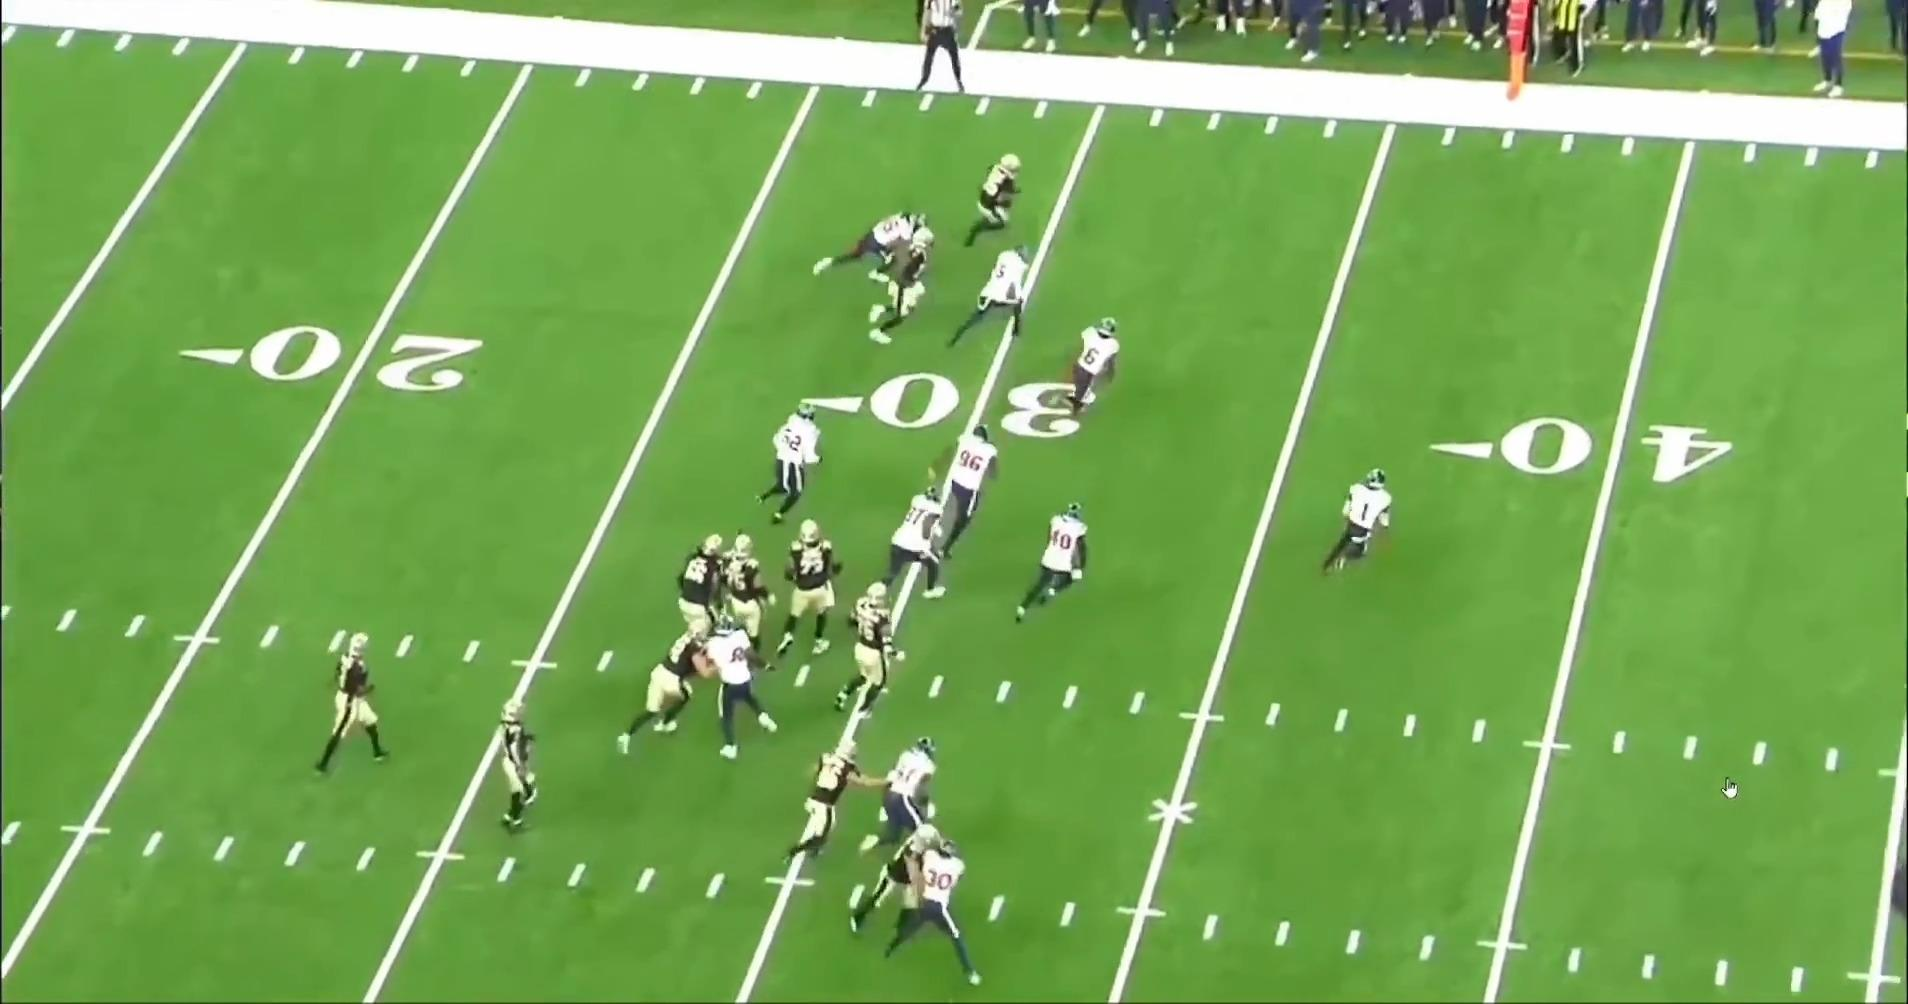defense: (882, 827, 997, 990), (852, 737, 945, 864), (712, 623, 789, 772), (1022, 501, 1103, 628), (951, 245, 1044, 354), (1325, 468, 1402, 581), (808, 206, 914, 286), (878, 488, 945, 609), (763, 404, 825, 531), (940, 421, 1004, 541), (1066, 315, 1129, 424)
oline: (609, 617, 724, 762), (774, 517, 845, 657), (833, 580, 901, 721), (676, 527, 742, 637), (719, 534, 776, 658)
qb: (304, 624, 386, 783)
ref: (919, 0, 984, 98)
skill: (782, 737, 867, 874), (857, 207, 934, 349), (847, 819, 938, 938), (501, 698, 551, 839), (972, 150, 1031, 252)
